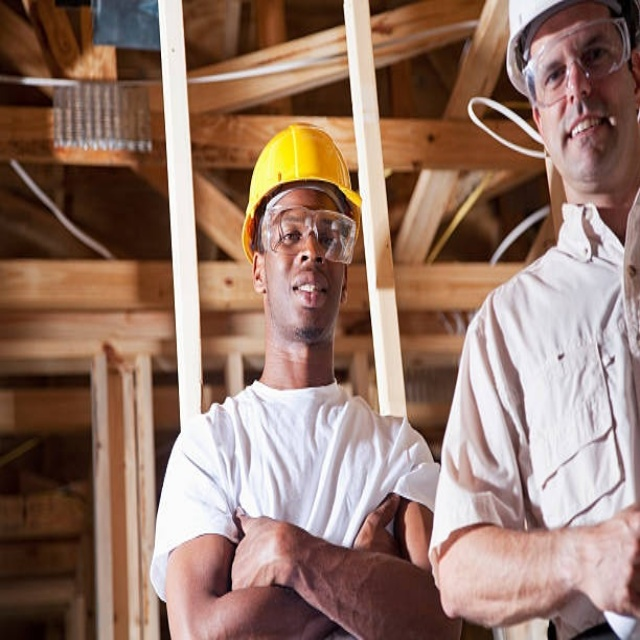Gafas: (523, 18, 631, 108), (258, 201, 359, 266)
Sin_guantes: (570, 503, 639, 623), (228, 507, 304, 593)
Sin_mascara: (287, 270, 328, 322), (563, 111, 605, 157)
